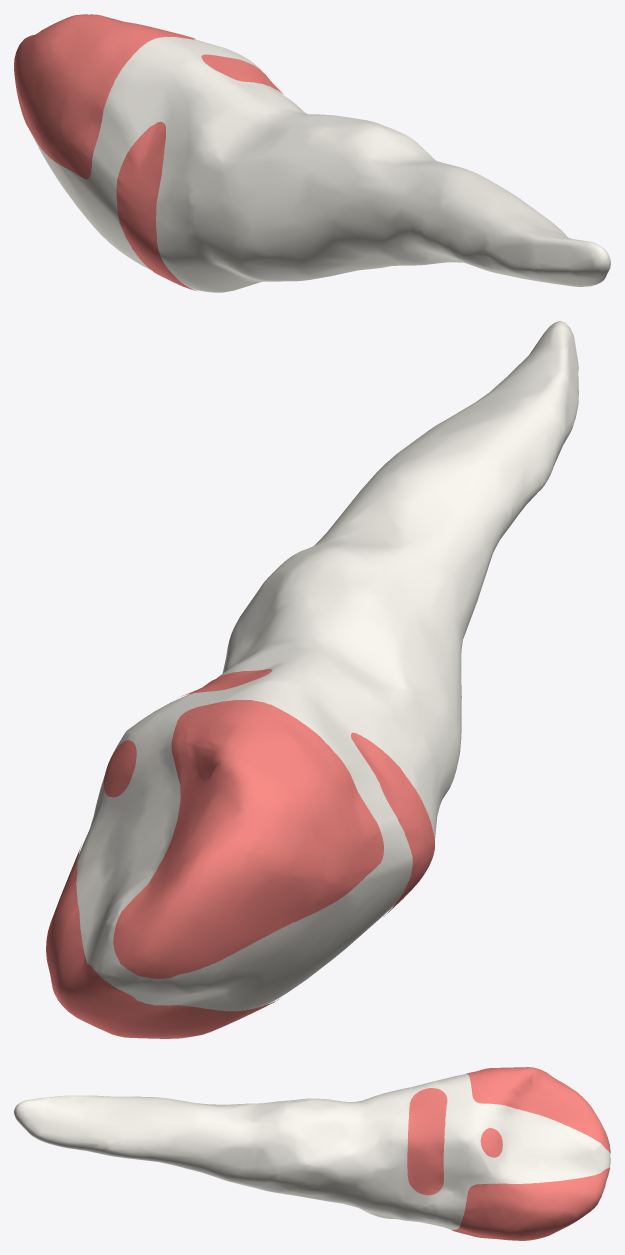
File: tooth_13_FMA55798.glb
3 views of the same model, one above another, from view 1: azimuth 30°, elevation 25°; view 2: azimuth 150°, elevation 25°; view 3: azimuth 270°, elevation 25° (orthographic). The views are drawn at different scales.
Visible parts, largest first — view 1: tooth_13, class3_distal, class4_distal, class5_facial, class5_lingual; view 2: tooth_13, class4_distal, class3_distal, class4_mesial, class5_facial, class1_lingual_pit; view 3: tooth_13, class4_mesial, class4_distal, class5_lingual, class3_mesial, class3_distal, class1_lingual_pit.
Boxes of the visible parts, <box> form: tooth_13: <box>30,36,610,292</box>; class3_distal: <box>34,14,181,162</box>; class4_distal: <box>14,14,195,179</box>; class5_facial: <box>116,121,196,290</box>; class5_lingual: <box>201,54,283,94</box>; tooth_13: <box>76,321,578,1011</box>; class4_distal: <box>113,700,383,978</box>; class3_distal: <box>186,703,377,883</box>; class4_mesial: <box>46,845,278,1038</box>; class5_facial: <box>351,732,434,916</box>; class1_lingual_pit: <box>103,740,136,797</box>; tooth_13: <box>14,1074,610,1230</box>; class4_mesial: <box>451,1167,609,1240</box>; class4_distal: <box>466,1067,610,1152</box>; class5_lingual: <box>407,1088,447,1195</box>; class3_mesial: <box>456,1192,531,1240</box>; class3_distal: <box>471,1067,532,1097</box>; class1_lingual_pit: <box>480,1128,502,1157</box>.
Size of the model in its own units: 8.81 by 8.85 by 29.65.
